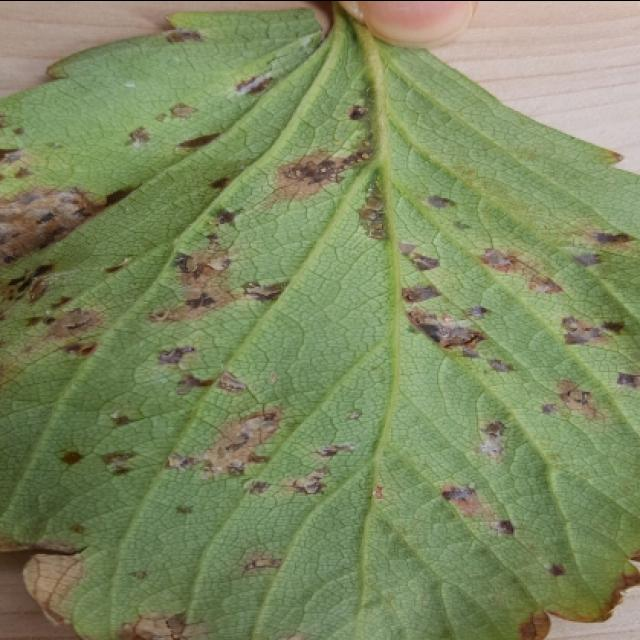Angular Leafspot: (0, 5, 638, 638)
